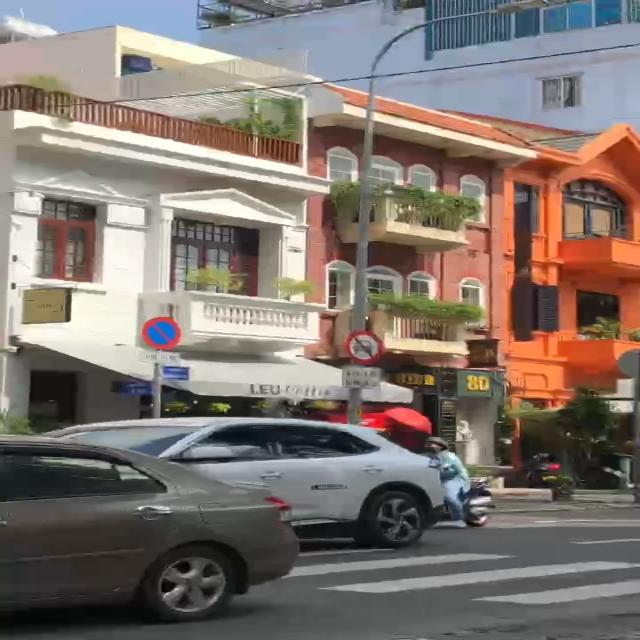Bien bao cam do xe: (139, 313, 185, 351)
Bien bao cam xe oto: (339, 326, 387, 366)
